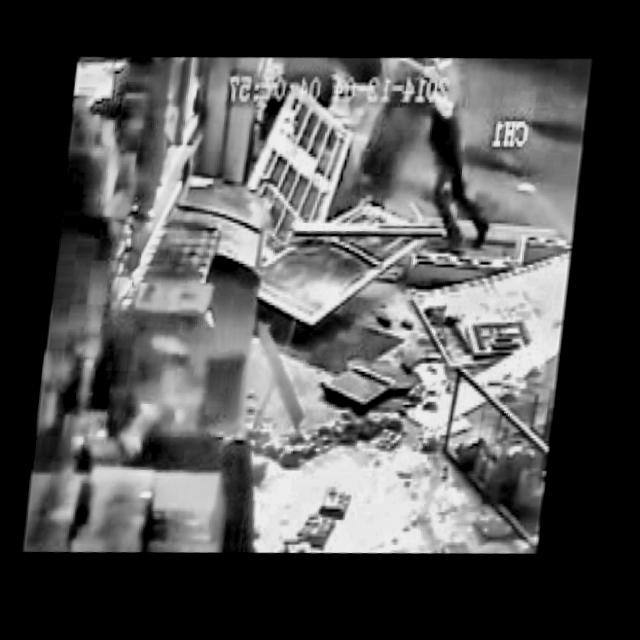burglary: (335, 54, 516, 270)
